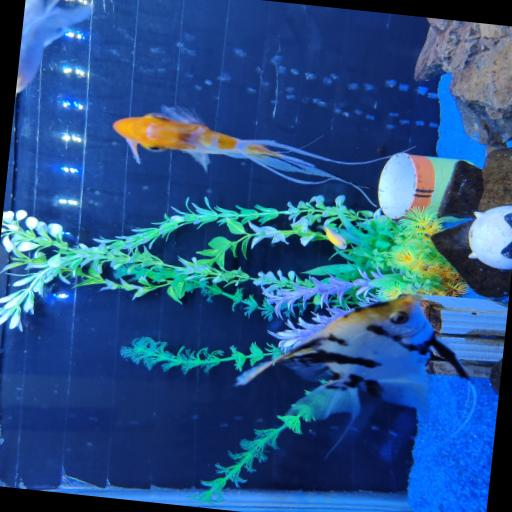Fish: (237, 295, 467, 419), (113, 106, 390, 205), (16, 0, 91, 91), (322, 224, 347, 248)
